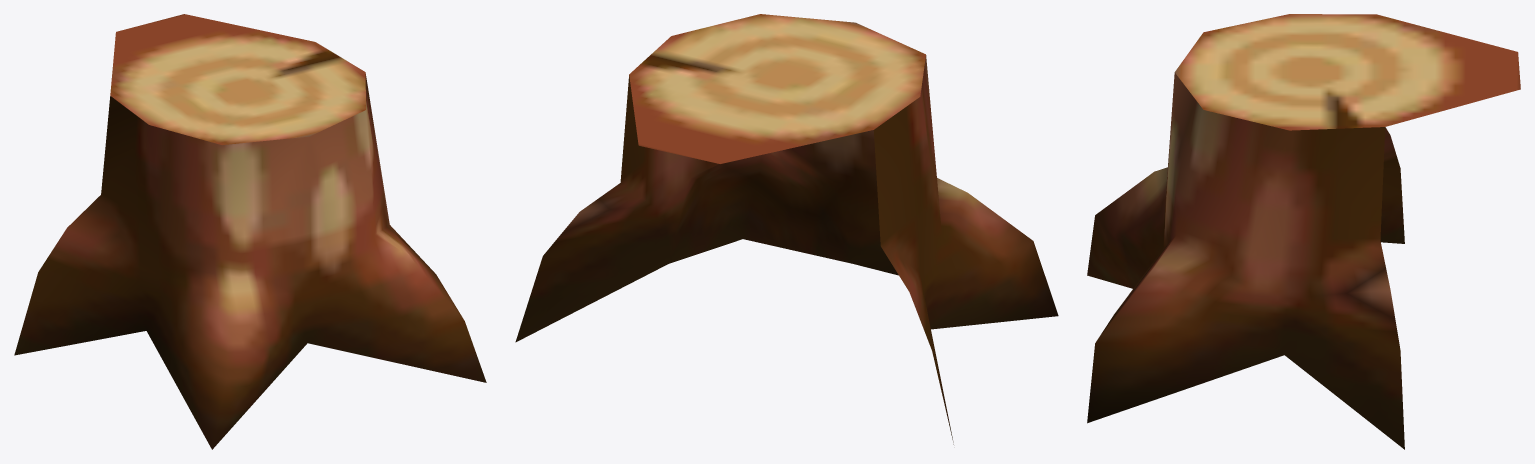
The model's file is fg_treeB_4_b.dae.
The picture shows the model from 3 angles, left to right: view 1: azimuth 30°, elevation 25°; view 2: azimuth 150°, elevation 25°; view 3: azimuth 270°, elevation 25°; orthographic projection. The views are drawn at different scales.
Parts seen in each view (by area): view 1: fg_treeB_4_b; view 2: fg_treeB_4_b; view 3: fg_treeB_4_b.
Boxes of the visible parts, <box> form: fg_treeB_4_b: <box>14,14,486,449</box>; fg_treeB_4_b: <box>515,14,1058,444</box>; fg_treeB_4_b: <box>1087,14,1520,449</box>.
Bounding box in the file's own units: 31.18 × 19.55 × 27.75.
Materials: 1 (1 with a texture image).
